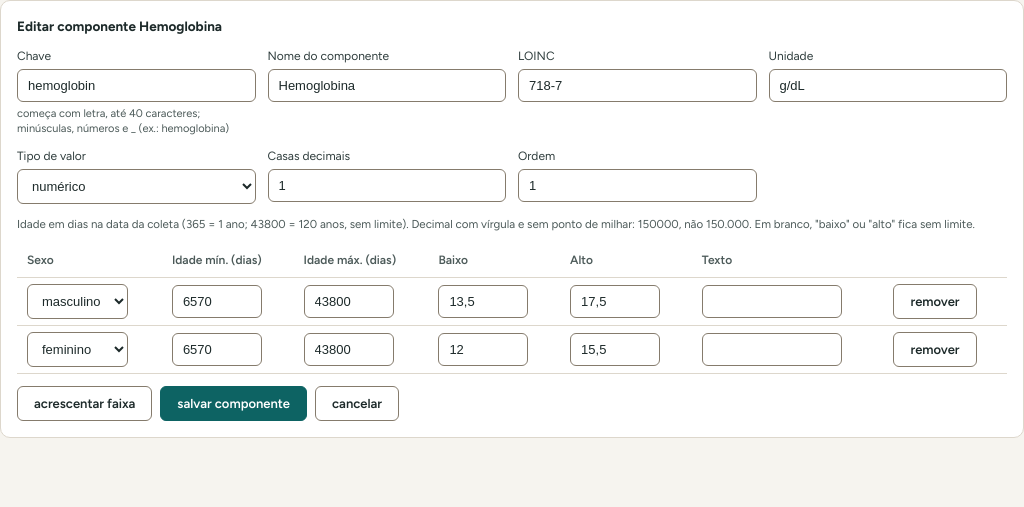
Test: LabAnalyteForm › recusa do api (chave repetida no exame, que só o servidor vê): mostra a frase e mantém o digitado
Replace the text in the field labelled "Chave" with "hematocrit" at (136, 85), box [17, 69, 256, 102]
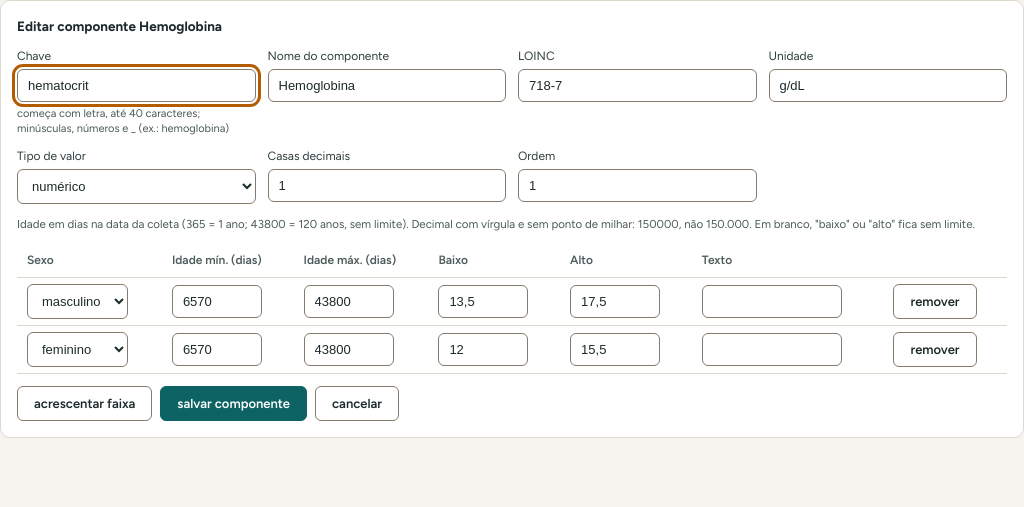
Replace the text in the field named "faixa 1: baixo" with "13" at (483, 302), box [438, 285, 528, 318]
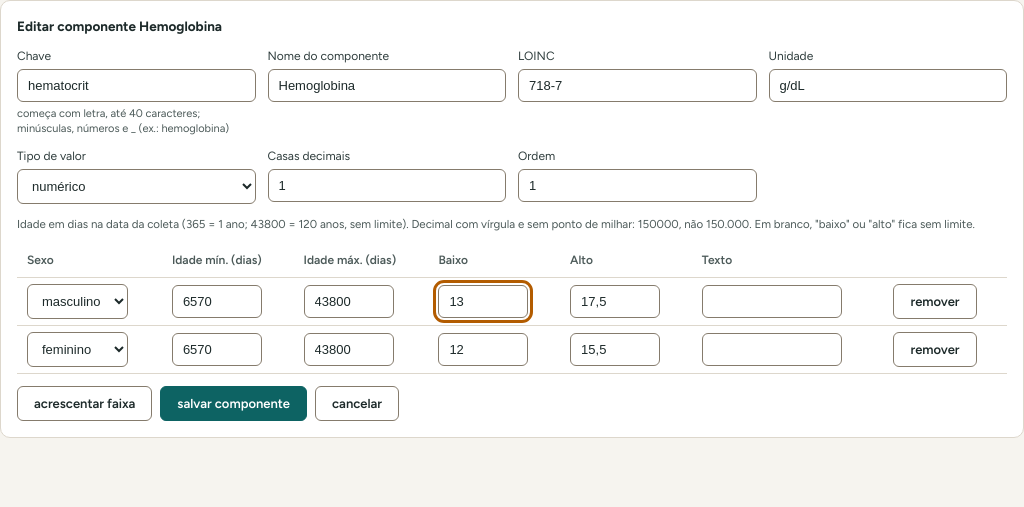
Click the button "salvar componente".
click(234, 404)  # box [160, 386, 307, 421]
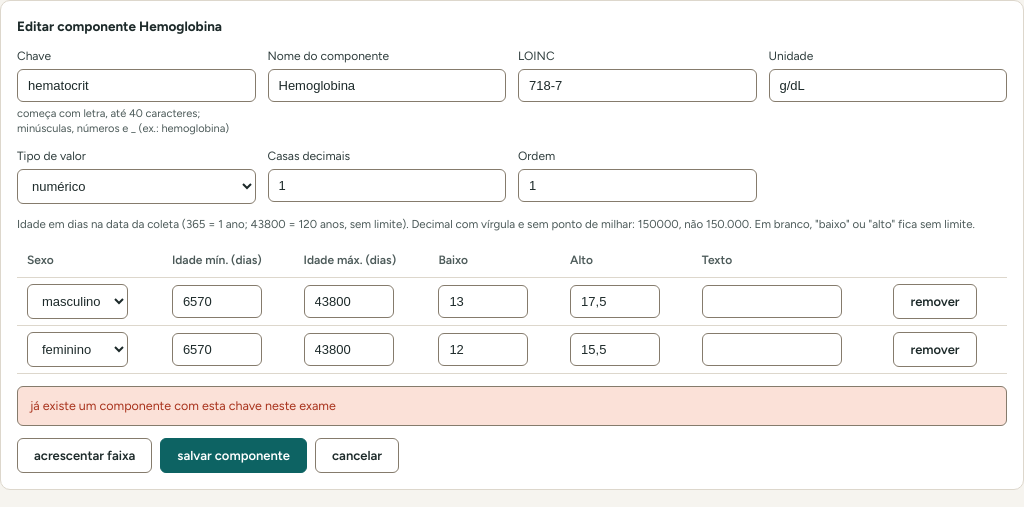
Expected: the field named "faixa 2: alto" holds "15,5", [570, 333, 660, 366]
Expected: the message reads "já existe um componente com esta chave neste exame", [30, 398, 336, 413]
